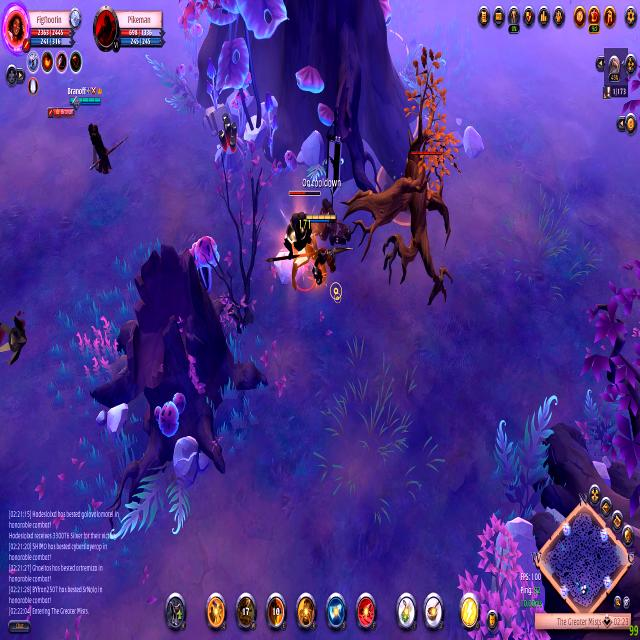ore: (343, 49, 473, 312), (272, 183, 328, 309)
player: (208, 110, 249, 182)
red: (61, 81, 117, 180), (304, 209, 341, 307)
silver: (375, 157, 433, 227), (388, 31, 410, 77), (404, 109, 422, 142)
